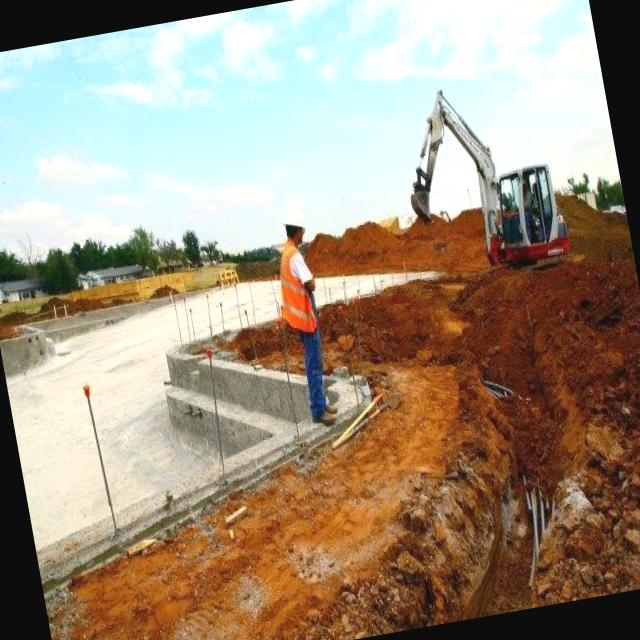vest: (271, 237, 322, 333)
